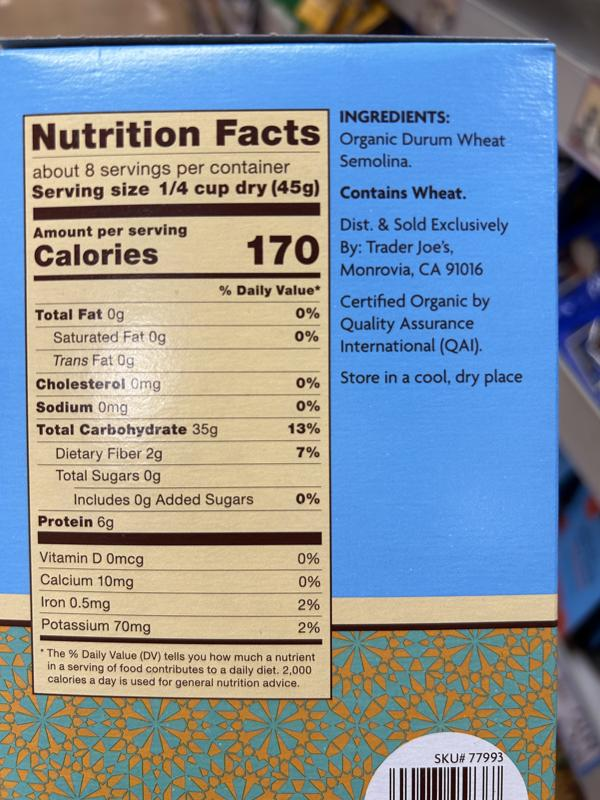ingredients: (337, 108, 507, 169)
